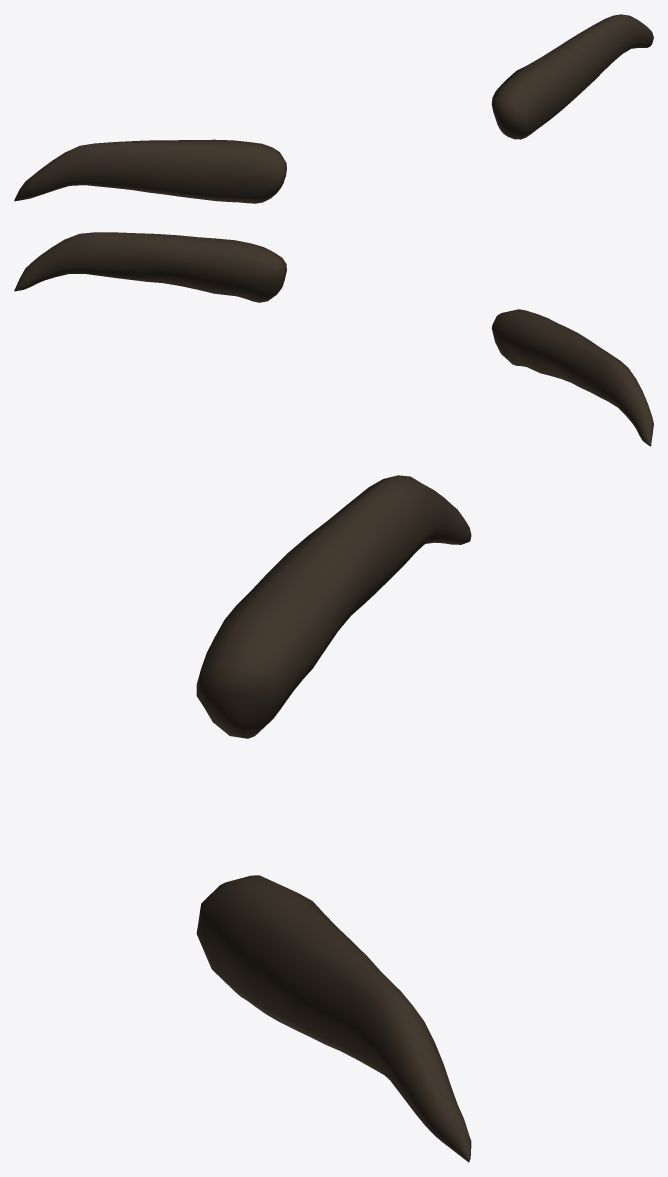
File: straight.fbx
3 renders of one model, top to bottom at view 1: azimuth 30°, elevation 25°; view 2: azimuth 150°, elevation 25°; view 3: azimuth 270°, elevation 25°, orthographic. The views are drawn at different scales.
Visible parts, largest first — view 1: Group1, straight2:Group63901; view 2: straight2:Group63901, Group1; view 3: straight2:Group63901, Group1.
Part boxes in pixels (<box>): Group1: <box>14,139,286,203</box>; straight2:Group63901: <box>491,14,653,139</box>; straight2:Group63901: <box>14,232,286,302</box>; Group1: <box>491,309,653,446</box>; straight2:Group63901: <box>196,875,471,1162</box>; Group1: <box>196,475,471,738</box>.
Bounding box in the file's own units: 0.5769 × 0.0543 × 0.1078.
